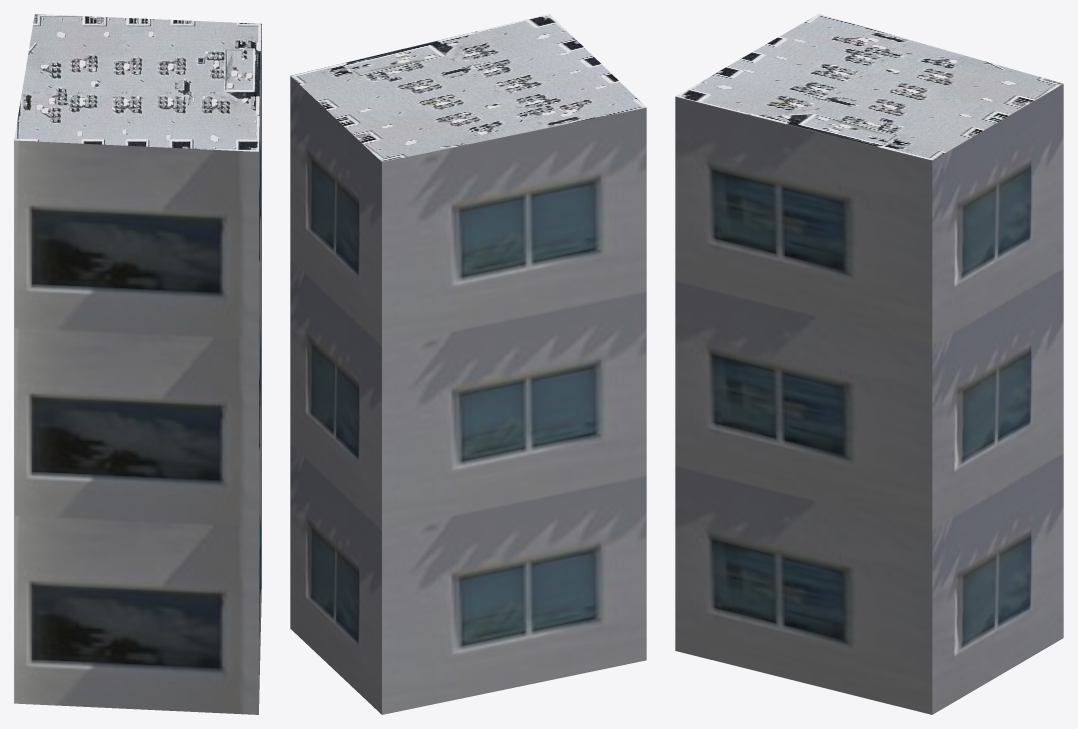
File: ResTex__4468.fbx
The picture shows the model from 3 angles, left to right: view 1: azimuth 30°, elevation 25°; view 2: azimuth 150°, elevation 25°; view 3: azimuth 270°, elevation 25°; orthographic projection.
Visible parts, largest first — view 1: CityEngineMaterial_10_m, CityEngineMaterial_2_m; view 2: CityEngineMaterial_10_m, CityEngineMaterial_2_m; view 3: CityEngineMaterial_10_m, CityEngineMaterial_2_m.
Boxes of the visible parts, left/top/right/bottom form: CityEngineMaterial_10_m: left=14, top=26, right=261, bottom=714; CityEngineMaterial_2_m: left=14, top=14, right=261, bottom=151; CityEngineMaterial_10_m: left=290, top=76, right=646, bottom=714; CityEngineMaterial_2_m: left=290, top=14, right=646, bottom=161; CityEngineMaterial_10_m: left=675, top=84, right=1063, bottom=714; CityEngineMaterial_2_m: left=675, top=14, right=1063, bottom=160.
Size of the model in its own units: 5.11 by 9 by 5.72.
2 materials, 2 textured.
